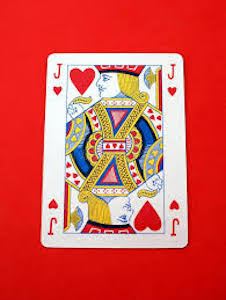JackOfHearts: (39, 45, 193, 253)
